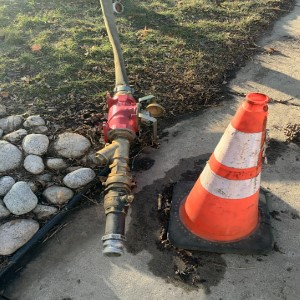traffic cone: (168, 92, 273, 253)
